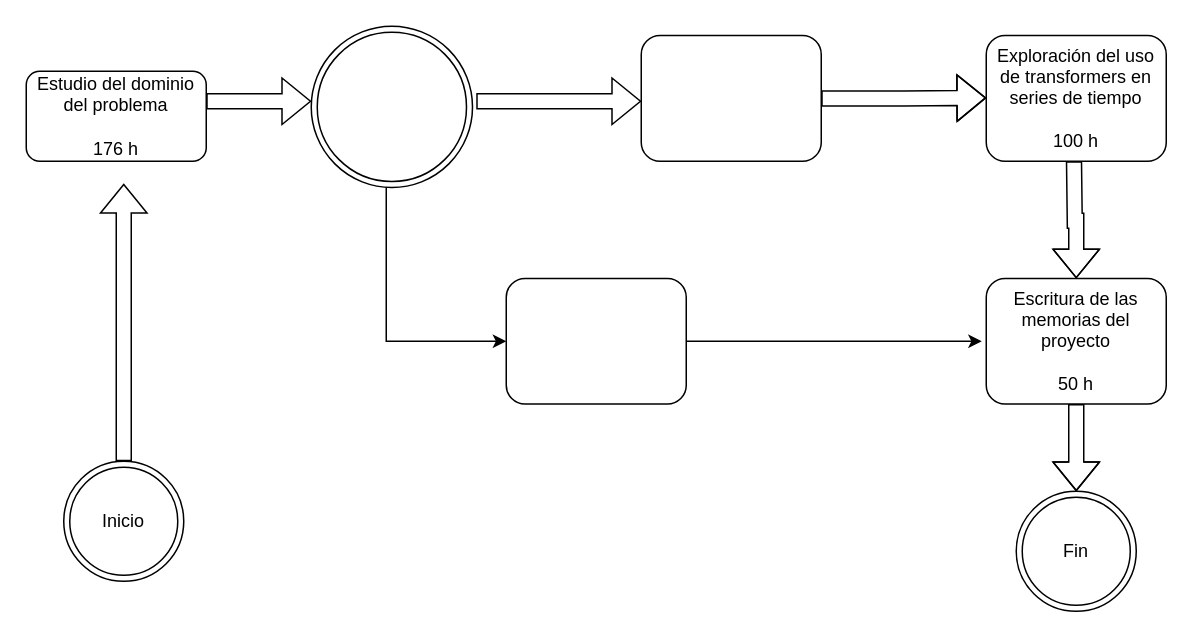
This 1193x638 diagram has some shape labels left out. Each missing label, with the centre of its shape:
Exploración de métodos tradicionales y estado del arte 150 h: pixel 730 97
Implementación de sistema de trading 100 h: pixel 595 340
Procuracion y análisis de datos 38 h: pixel 391 106
